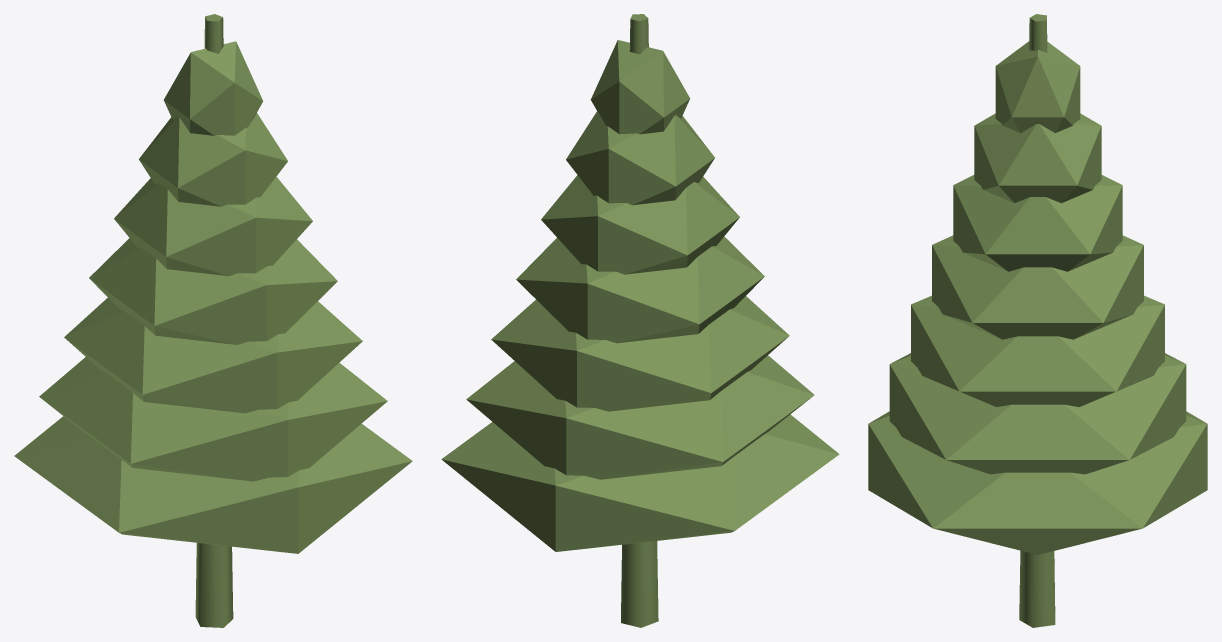
3 views of the same model, side by side, from view 1: azimuth 30°, elevation 25°; view 2: azimuth 150°, elevation 25°; view 3: azimuth 270°, elevation 25° (orthographic).
Parts seen in each view (by area): view 1: shadow-crown; view 2: shadow-crown; view 3: shadow-crown.
Boxes of the visible parts, left/top/right/bottom form: shadow-crown: left=14, top=14, right=412, bottom=627; shadow-crown: left=441, top=14, right=839, bottom=627; shadow-crown: left=868, top=14, right=1207, bottom=627.
Bounding box in the file's own units: 5.1 × 10 × 5.1.
